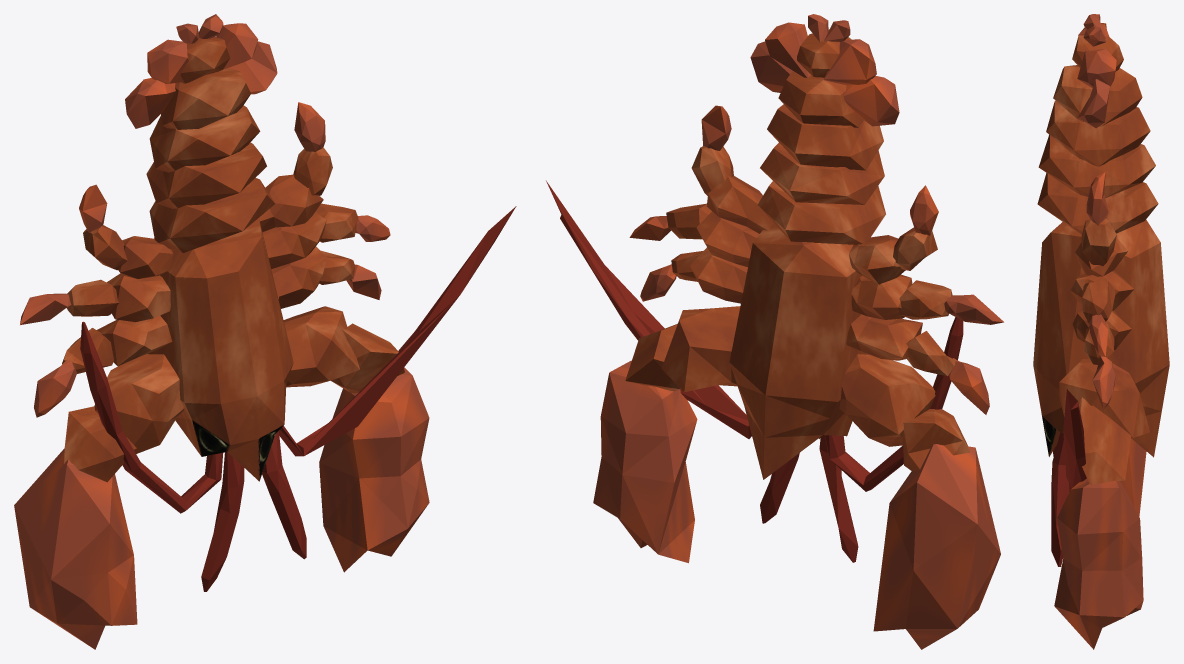
The model's file is langosta.fbx.
3 renders of one model, left to right at view 1: azimuth 30°, elevation 25°; view 2: azimuth 150°, elevation 25°; view 3: azimuth 270°, elevation 25°, orthographic. The views are drawn at different scales.
Visible parts, largest first — view 1: Cylinder.021, Langosta_cuerpo; view 2: Cylinder.021, Langosta_cuerpo; view 3: Cylinder.021, Langosta_cuerpo.
Part boxes in pixels (left/top/right/bottom): Cylinder.021: left=64, top=14, right=404, bottom=482; Langosta_cuerpo: left=14, top=102, right=516, bottom=649; Cylinder.021: left=625, top=14, right=970, bottom=479; Langosta_cuerpo: left=546, top=105, right=1003, bottom=649; Cylinder.021: left=1033, top=14, right=1169, bottom=484; Langosta_cuerpo: left=1051, top=172, right=1146, bottom=649.
Bounding box in the file's own units: 424 × 515 × 112.
Materials: 2 (2 with a texture image).
